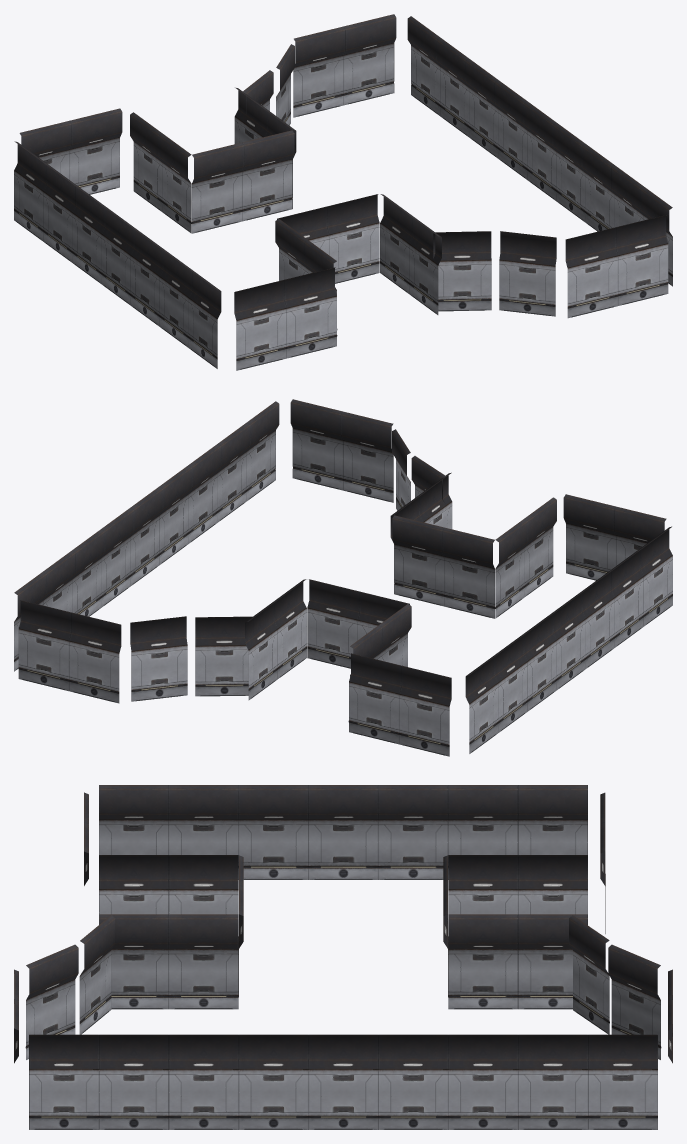
File: ParedeSalaCobaias.fbx
3 renders of one model, top to bottom at view 1: azimuth 30°, elevation 25°; view 2: azimuth 150°, elevation 25°; view 3: azimuth 270°, elevation 25°, orthographic. The views are drawn at different scales.
Parts seen in each view (by area): view 1: ROOM_WALL.058, ROOM_WALL.062, ROOM_WALL.150, ROOM_WALL.072, ROOM_WALL.066, ROOM_WALL.064, ROOM_WALL.071, ROOM_WALL.160, ROOM_WALL.162, ROOM_WALL.151, ROOM_WALL.083, ROOM_WALL.145 (+28 smaller); view 2: ROOM_WALL.137, ROOM_WALL.141, ROOM_WALL.071, ROOM_WALL.143, ROOM_WALL.150, ROOM_WALL.151, ROOM_WALL.145, ROOM_WALL.081, ROOM_WALL.083, ROOM_WALL.072, ROOM_WALL.162, ROOM_WALL.066 (+28 smaller); view 3: ROOM_WALL.002, ROOM_WALL.068, ROOM_WALL.086, ROOM_WALL.099, ROOM_WALL.147, ROOM_WALL.165, ROOM_WALL.177, ROOM_WALL.186, ROOM_WALL.069, ROOM_WALL.070, ROOM_WALL.148, ROOM_WALL.149 (+16 smaller).
Boxes of the visible parts, x1,y1,x2,y2 form: ROOM_WALL.058: (499,231,556,316); ROOM_WALL.062: (433,231,491,311); ROOM_WALL.150: (343,14,396,105); ROOM_WALL.072: (565,227,617,318); ROOM_WALL.066: (284,267,337,358); ROOM_WALL.064: (234,279,286,370); ROOM_WALL.071: (616,215,668,305); ROOM_WALL.160: (191,142,244,233); ROOM_WALL.162: (242,130,294,221); ROOM_WALL.151: (293,26,345,117); ROOM_WALL.083: (327,194,379,283); ROOM_WALL.145: (69,108,122,194); ROOM_WALL.137: (130,616,187,701); ROOM_WALL.141: (195,616,253,696); ROOM_WALL.071: (290,399,343,490); ROOM_WALL.143: (399,665,451,756); ROOM_WALL.150: (18,600,70,691); ROOM_WALL.151: (69,612,121,703); ROOM_WALL.145: (348,653,401,744); ROOM_WALL.081: (442,527,495,618); ROOM_WALL.083: (392,515,444,606); ROOM_WALL.072: (341,411,393,502); ROOM_WALL.162: (307,579,359,668); ROOM_WALL.066: (563,494,616,580); ROOM_WALL.002: (238,1034,308,1129); ROOM_WALL.068: (168,1034,238,1129); ROOM_WALL.086: (168,914,238,1009); ROOM_WALL.099: (378,1034,448,1129); ROOM_WALL.147: (448,1034,518,1129); ROOM_WALL.165: (448,914,518,1009); ROOM_WALL.177: (308,1034,378,1129); ROOM_WALL.186: (308,785,378,879); ROOM_WALL.069: (99,1034,168,1129); ROOM_WALL.070: (29,1034,98,1129); ROOM_WALL.148: (518,1034,587,1129); ROOM_WALL.149: (588,1034,657,1129).
Bounding box in the file's own units: 33.85 × 6 × 37.73.
